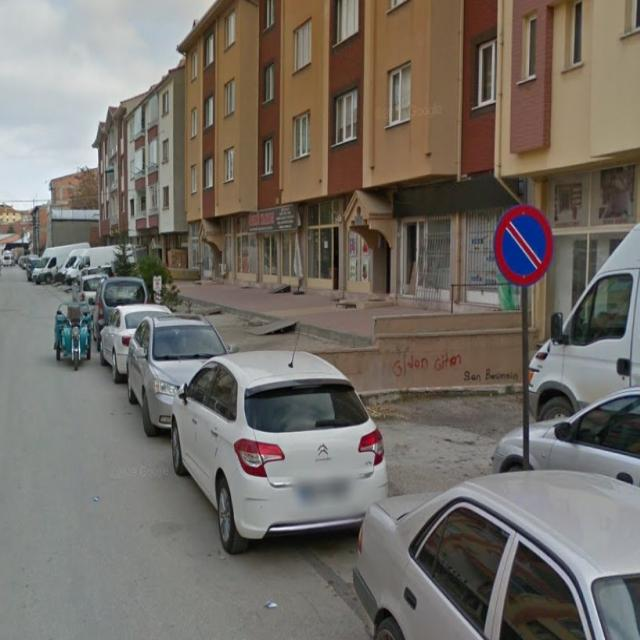parkyasak: (494, 206, 554, 286)
